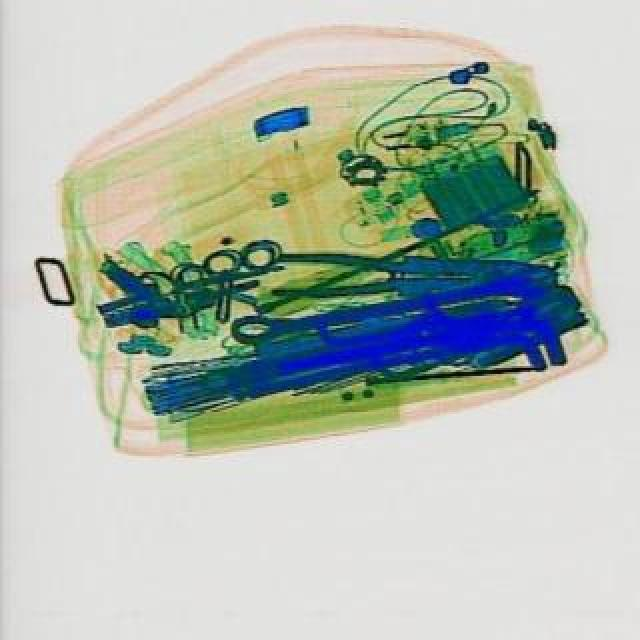scissors: (226, 262, 552, 350)
wrench: (268, 248, 546, 300)
